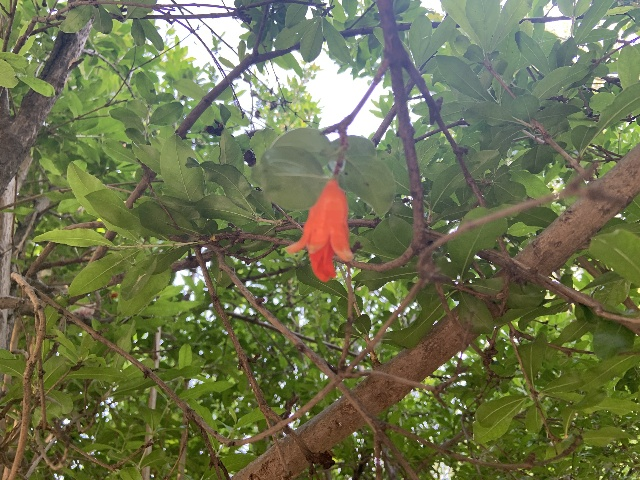flower: (286, 178, 353, 282)
